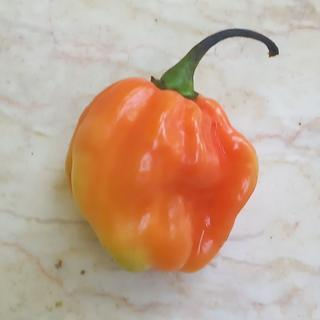Grade-B: (58, 67, 262, 275)
